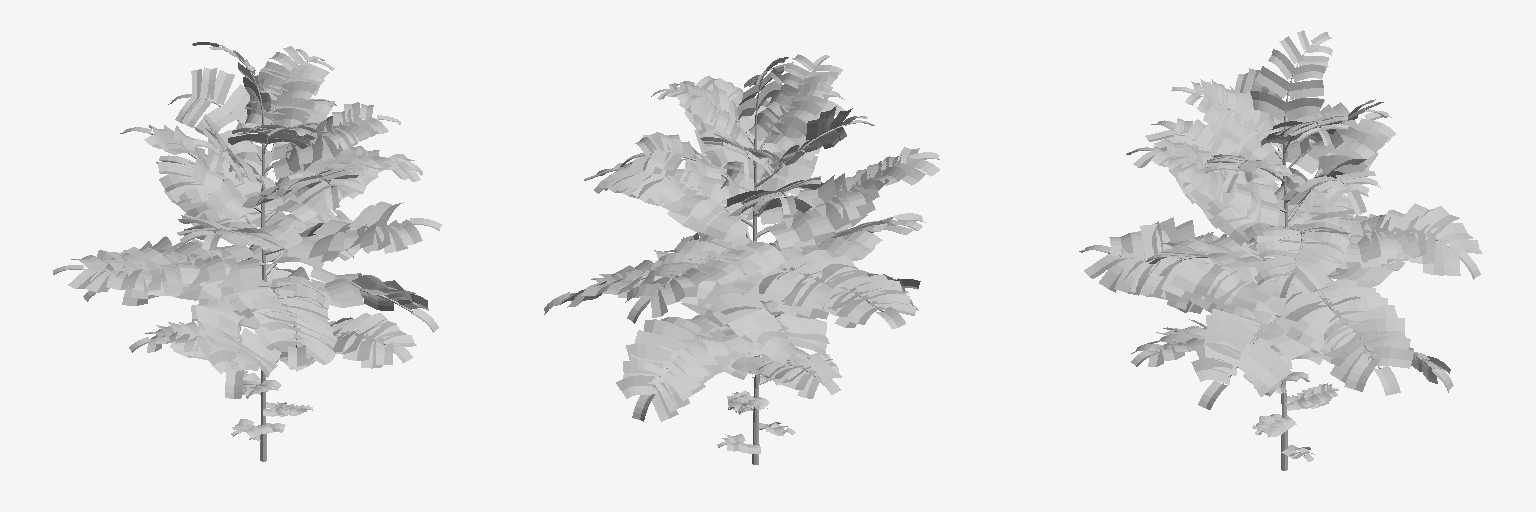
3 views of the same model, side by side, from view 1: azimuth 30°, elevation 25°; view 2: azimuth 150°, elevation 25°; view 3: azimuth 270°, elevation 25° (orthographic).
Parts seen in each view (by area): view 1: AS12_Leaf2, AS12_Leaf1, AS12_Branch1; view 2: AS12_Leaf2, AS12_Leaf1, AS12_Branch1; view 3: AS12_Leaf2, AS12_Leaf1, AS12_Branch1.
Boxes of the visible parts, x1,y1,x2,y2 form: AS12_Leaf2: [71, 43, 428, 440]; AS12_Leaf1: [53, 42, 441, 436]; AS12_Branch1: [84, 47, 412, 461]; AS12_Leaf2: [569, 57, 939, 453]; AS12_Leaf1: [544, 54, 939, 447]; AS12_Branch1: [575, 69, 906, 464]; AS12_Leaf2: [1109, 45, 1460, 455]; AS12_Leaf1: [1079, 30, 1482, 461]; AS12_Branch1: [1108, 45, 1451, 470].
Size of the model in its own units: 1.1 by 1.28 by 1.13.